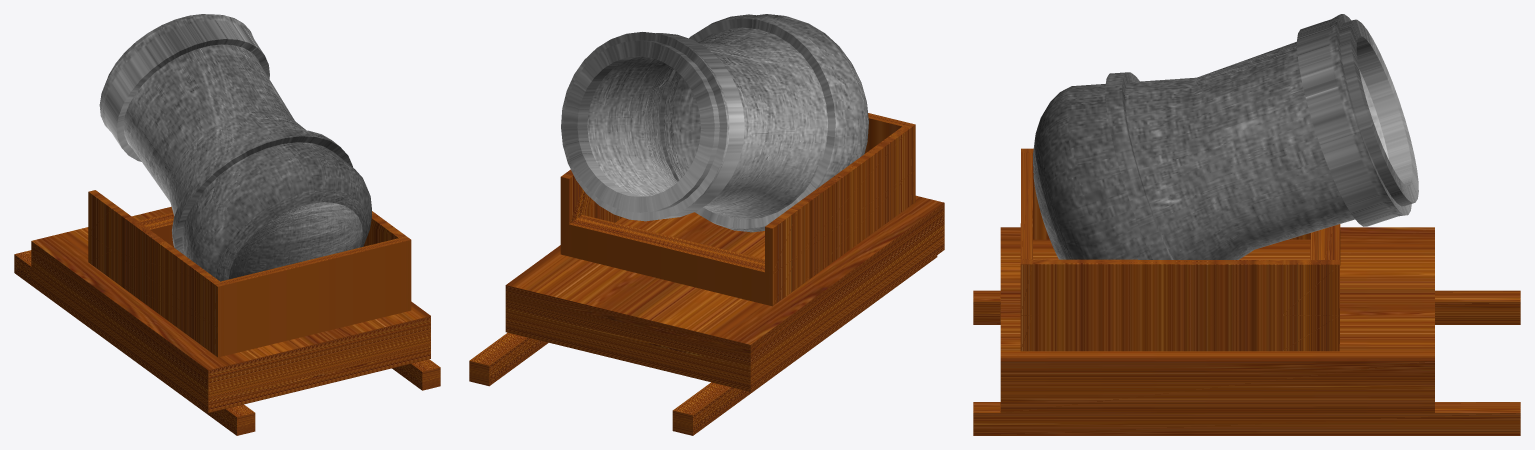
The model's file is cannonMain.obj.
The picture shows the model from 3 angles, left to right: view 1: azimuth 30°, elevation 25°; view 2: azimuth 150°, elevation 25°; view 3: azimuth 270°, elevation 25°; orthographic projection. The views are drawn at different scales.
Visible parts, largest first — view 1: Cylinder.001_Cylinder.005, Plane.003, Cube.004_Cube.002, Cube.002_Cube.004, Cube.001_Cube.003; view 2: Cylinder.001_Cylinder.005, Cube.004_Cube.002, Plane.003, Cube.002_Cube.004, Cube.001_Cube.003; view 3: Cylinder.001_Cylinder.005, Cube.004_Cube.002, Plane.003, Cube.001_Cube.003, Cube.002_Cube.004.
Part boxes in pixels (x1,y1,x2,y2): Cylinder.001_Cylinder.005: (99,14,371,281); Plane.003: (88,190,411,357); Cube.004_Cube.002: (31,206,430,412); Cube.002_Cube.004: (14,250,255,435); Cube.001_Cube.003: (392,359,440,390); Cylinder.001_Cylinder.005: (561,14,868,232); Cube.004_Cube.002: (505,195,944,391); Plane.003: (560,113,915,306); Cube.002_Cube.004: (672,255,937,435); Cube.001_Cube.003: (469,332,548,386); Cylinder.001_Cylinder.005: (1033,14,1418,259); Cube.004_Cube.002: (1000,227,1434,413); Plane.003: (1020,148,1340,351); Cube.001_Cube.003: (973,402,1520,435); Cube.002_Cube.004: (973,290,1520,324).
Bounding box in the file's own units: 1.9 × 2.33 × 3.29.
Materials: 5 (5 with a texture image).
